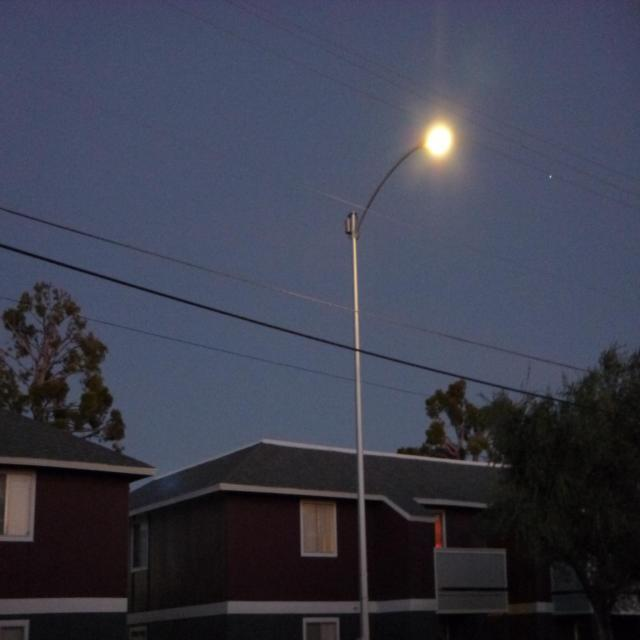on: (405, 108, 490, 196)
